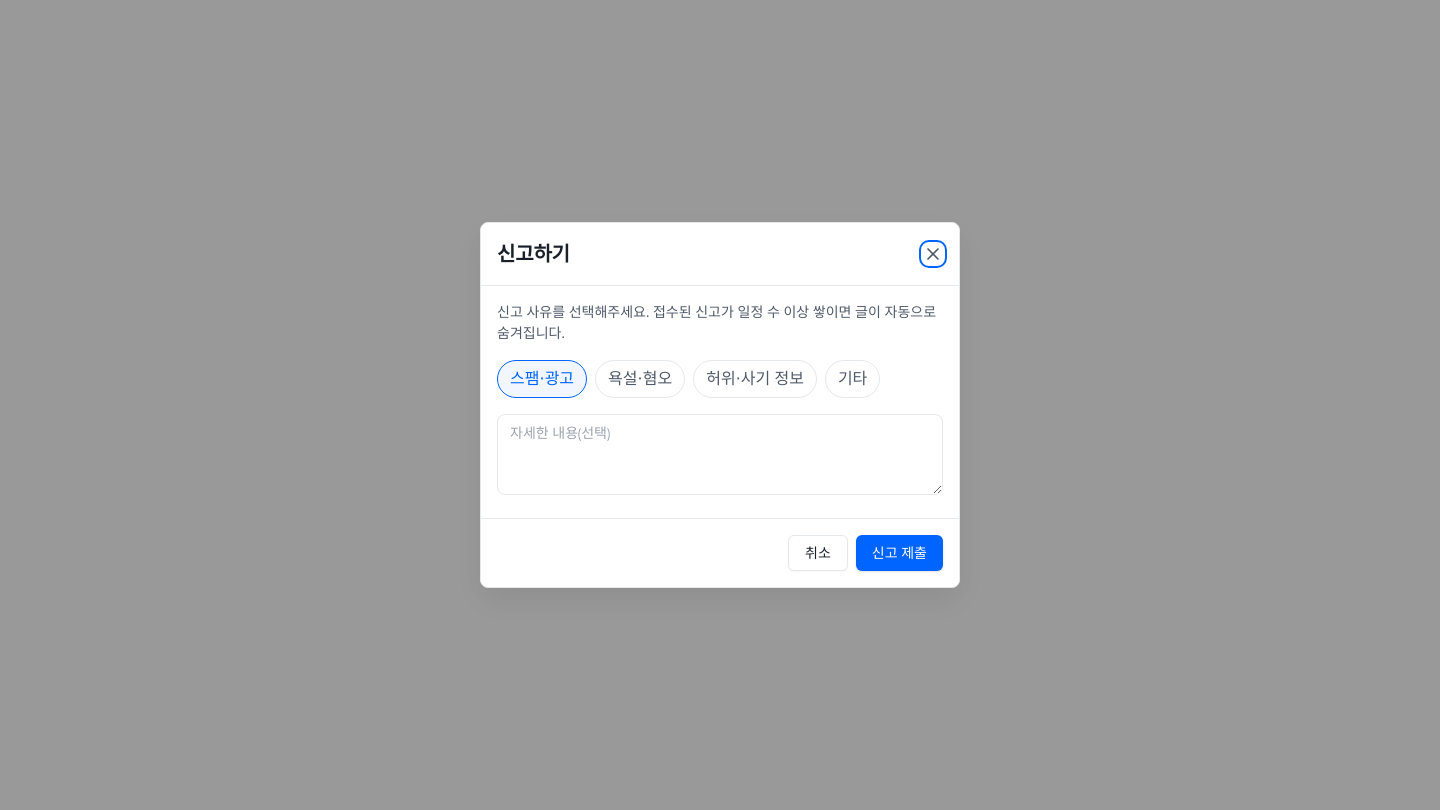
Test case: ReportDialog › submits the selected reason and shows the accepted message
The width and height of the screenshot is (1440, 810).
Click the button "신고 제출" at (899, 553), box [856,535,943,571]
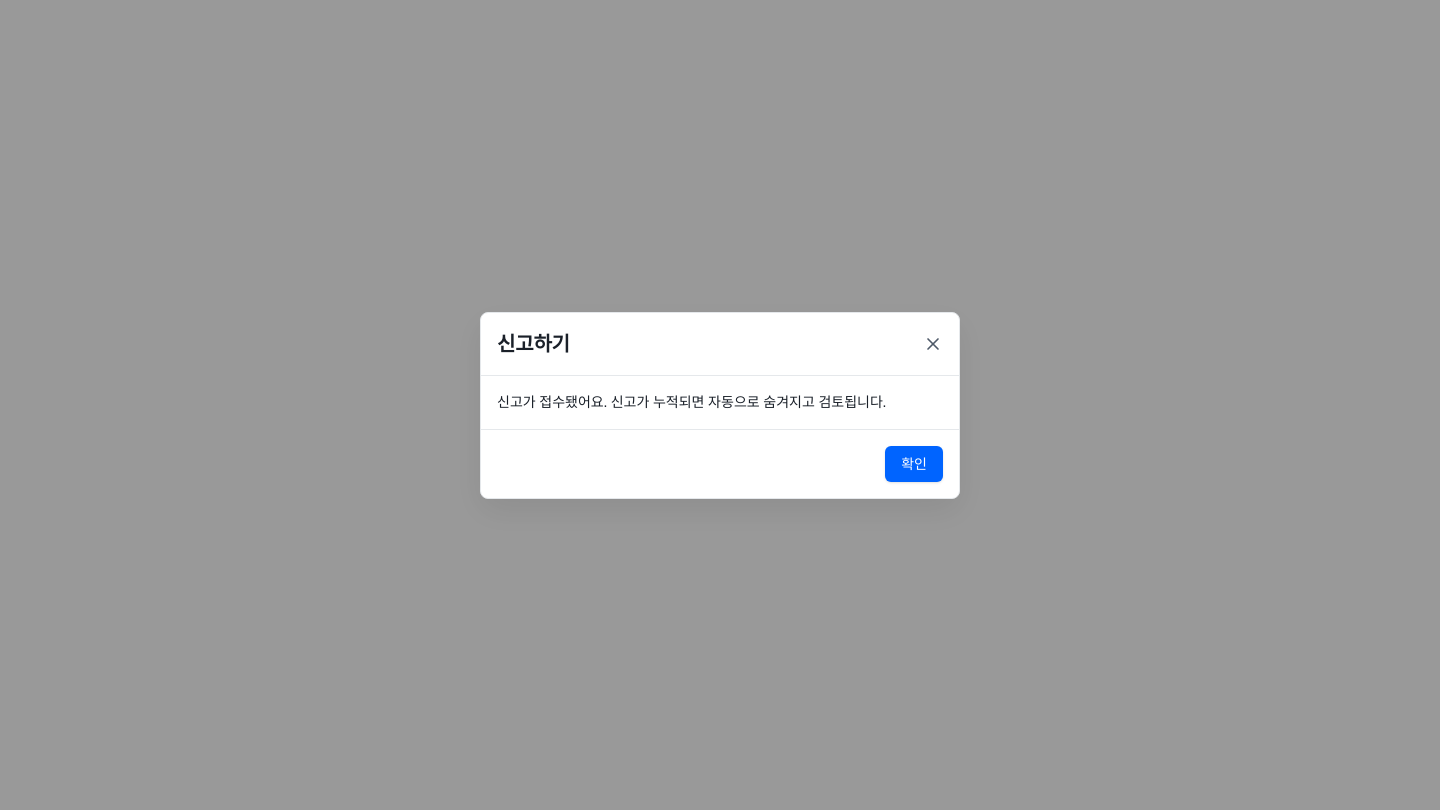
Now the text "신고가 접수됐어요. 신고가 누적되면 자동으로 숨겨지고 검토됩니다." is shown, box [497,392,943,412]
